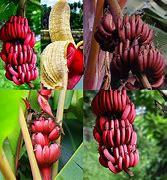banana: (84, 89, 155, 177), (92, 10, 167, 90), (0, 11, 39, 87), (47, 3, 83, 83), (23, 114, 68, 177)
